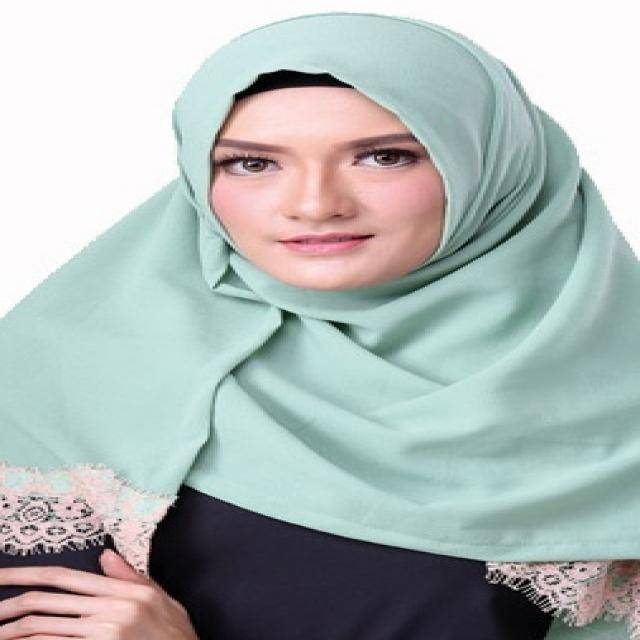head: (171, 9, 534, 299)
